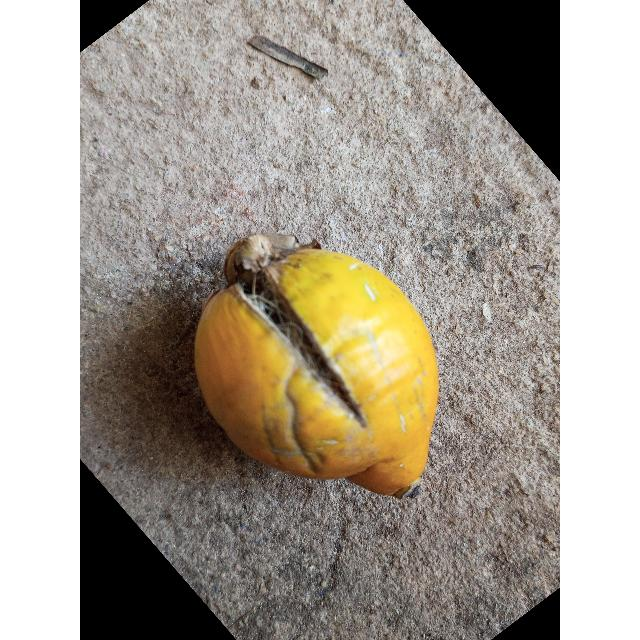damaged: (195, 233, 438, 499)
